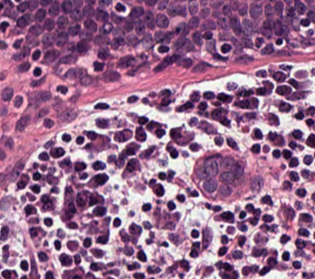nucleus: (154, 54, 179, 71), (202, 159, 217, 176), (115, 129, 131, 141), (232, 161, 243, 178), (178, 38, 192, 51), (118, 56, 134, 67), (55, 32, 67, 46), (251, 176, 263, 190), (44, 50, 59, 61), (60, 109, 75, 120), (66, 68, 82, 78), (103, 71, 119, 81), (203, 179, 216, 191), (124, 143, 138, 154), (220, 172, 234, 183), (287, 91, 306, 99), (203, 228, 211, 247), (111, 36, 123, 48), (219, 184, 231, 196), (66, 201, 75, 217), (76, 40, 87, 53), (36, 91, 50, 101), (135, 127, 145, 141), (76, 192, 86, 206), (42, 34, 53, 46), (222, 158, 234, 169), (127, 159, 138, 171), (192, 32, 202, 45), (212, 109, 225, 119), (140, 147, 153, 157), (276, 85, 290, 94), (60, 254, 71, 265), (240, 37, 252, 47), (261, 44, 273, 54), (177, 102, 192, 110), (95, 174, 107, 184), (193, 63, 206, 72), (51, 148, 64, 157), (60, 55, 74, 63), (30, 78, 44, 86), (80, 75, 91, 85), (227, 138, 237, 149), (95, 35, 107, 44), (221, 212, 233, 221), (154, 31, 164, 41), (127, 35, 137, 45), (47, 174, 57, 184), (180, 58, 191, 67), (273, 72, 284, 81), (263, 81, 272, 92), (279, 102, 290, 111), (261, 195, 272, 204), (129, 224, 140, 233), (143, 34, 151, 46), (218, 93, 230, 101), (93, 207, 105, 215), (307, 134, 314, 147), (163, 32, 172, 42), (98, 49, 108, 58), (190, 91, 199, 101), (249, 97, 258, 107), (269, 114, 278, 124), (120, 231, 129, 241), (67, 241, 77, 250), (80, 31, 91, 39), (96, 119, 107, 127), (147, 121, 158, 129), (93, 161, 104, 169), (74, 162, 85, 170), (155, 185, 163, 196), (286, 208, 294, 219), (300, 213, 311, 221), (236, 100, 248, 107), (91, 249, 103, 256), (303, 155, 312, 164), (43, 200, 52, 209), (280, 234, 289, 243), (296, 239, 305, 248), (38, 252, 47, 261), (255, 37, 263, 47), (288, 79, 298, 87), (38, 108, 48, 116), (170, 129, 180, 137), (197, 168, 205, 178), (89, 195, 97, 205), (298, 228, 308, 236), (169, 233, 177, 243), (232, 250, 242, 258), (138, 251, 146, 261), (221, 44, 230, 52), (32, 50, 40, 59), (94, 62, 103, 70), (57, 85, 66, 93), (189, 117, 197, 126), (44, 119, 53, 127), (254, 129, 262, 138), (292, 130, 301, 138), (87, 131, 96, 139), (214, 136, 222, 145), (251, 144, 260, 152), (39, 152, 48, 160), (289, 158, 298, 166), (290, 172, 298, 181), (29, 228, 37, 237), (83, 238, 91, 247), (252, 248, 261, 256), (267, 257, 276, 265), (180, 260, 188, 269), (242, 266, 250, 275), (207, 41, 214, 51), (158, 45, 168, 52), (160, 89, 170, 96), (203, 91, 213, 98), (59, 159, 69, 166), (97, 236, 107, 243), (31, 258, 35, 275), (214, 54, 225, 60), (127, 263, 138, 269), (95, 103, 108, 108), (203, 31, 211, 39), (33, 67, 41, 75), (161, 97, 169, 105), (156, 128, 164, 136), (282, 150, 290, 158), (283, 181, 291, 189), (44, 218, 52, 226), (218, 247, 226, 255), (227, 82, 236, 89), (138, 117, 147, 124), (220, 118, 229, 125), (190, 143, 199, 150), (170, 149, 177, 158), (296, 189, 305, 196), (263, 215, 272, 222), (238, 236, 245, 245), (222, 263, 231, 270), (256, 70, 266, 76), (256, 88, 266, 94), (127, 96, 137, 102), (198, 102, 206, 109), (295, 112, 303, 119), (62, 134, 70, 141), (273, 149, 280, 157), (31, 185, 39, 192), (167, 201, 174, 209), (142, 203, 150, 210), (253, 209, 260, 217), (113, 218, 120, 226), (226, 226, 234, 233), (124, 247, 132, 254), (190, 249, 197, 257), (282, 252, 289, 260), (90, 263, 98, 270), (296, 71, 305, 77), (68, 222, 77, 228), (54, 240, 60, 249), (74, 255, 80, 264), (307, 107, 314, 114), (269, 132, 276, 139), (76, 136, 83, 143), (276, 137, 283, 144), (108, 155, 115, 162), (301, 170, 308, 177), (33, 172, 40, 179), (158, 172, 165, 179), (177, 194, 184, 201), (41, 195, 48, 202), (246, 204, 253, 211), (250, 217, 257, 224), (143, 221, 150, 228), (191, 230, 198, 237), (192, 242, 199, 249), (293, 261, 300, 268), (244, 90, 252, 96), (238, 224, 246, 230), (306, 119, 313, 125), (80, 173, 87, 179), (239, 211, 245, 218), (221, 235, 227, 242), (58, 229, 63, 237), (276, 38, 282, 44), (149, 179, 155, 185), (51, 187, 58, 192), (191, 191, 198, 196), (295, 202, 300, 209), (45, 142, 51, 147), (290, 142, 295, 148), (263, 146, 268, 152), (216, 262, 221, 268), (169, 170, 173, 177), (261, 225, 268, 229), (281, 66, 290, 69), (214, 206, 220, 210), (142, 98, 147, 102), (162, 242, 167, 246), (206, 203, 210, 207), (147, 239, 151, 243), (214, 102, 219, 105), (312, 193, 314, 200), (150, 93, 155, 95)
